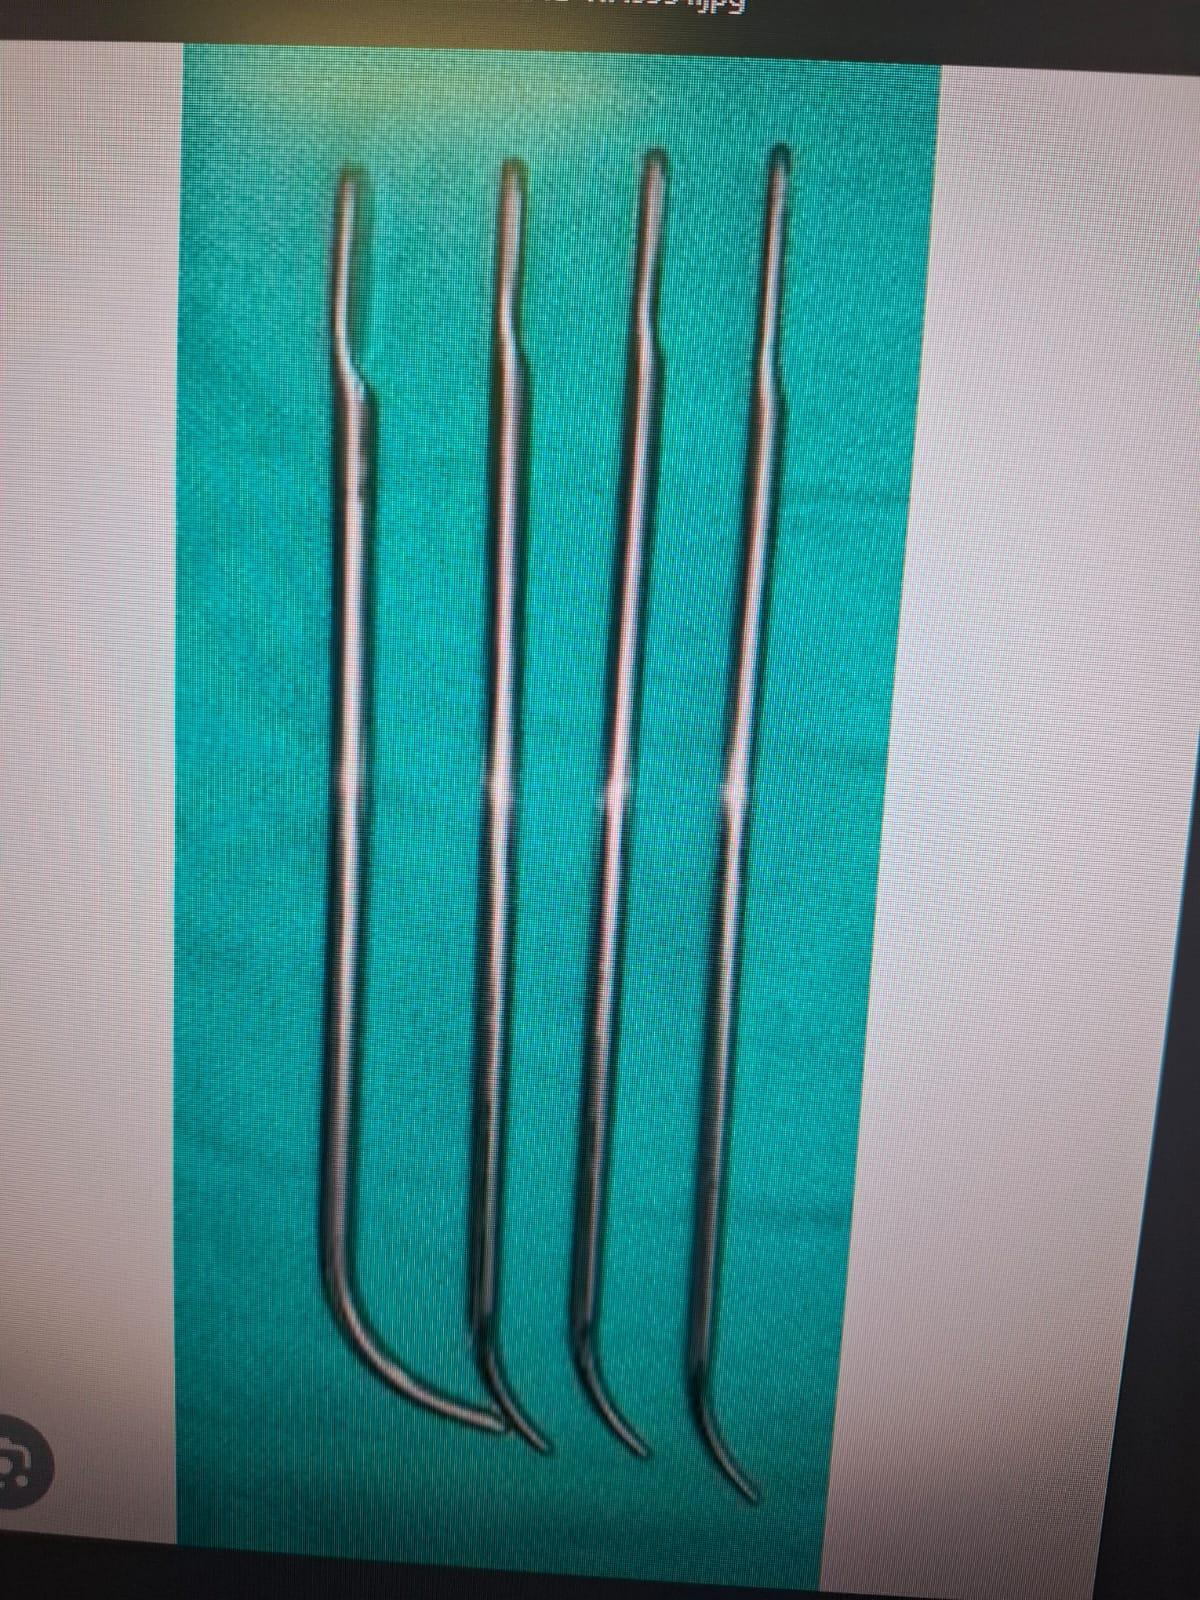Urethral Dilators: (368, 132, 595, 1468), (552, 130, 750, 1470), (297, 135, 498, 1458), (692, 125, 818, 1540)
